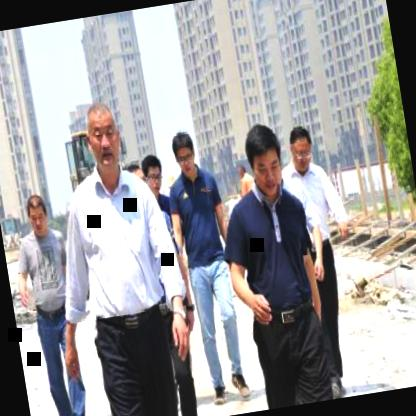head: (78, 97, 130, 177), (240, 119, 290, 194), (164, 126, 204, 180), (284, 119, 320, 176), (18, 190, 52, 238), (137, 148, 167, 193)
